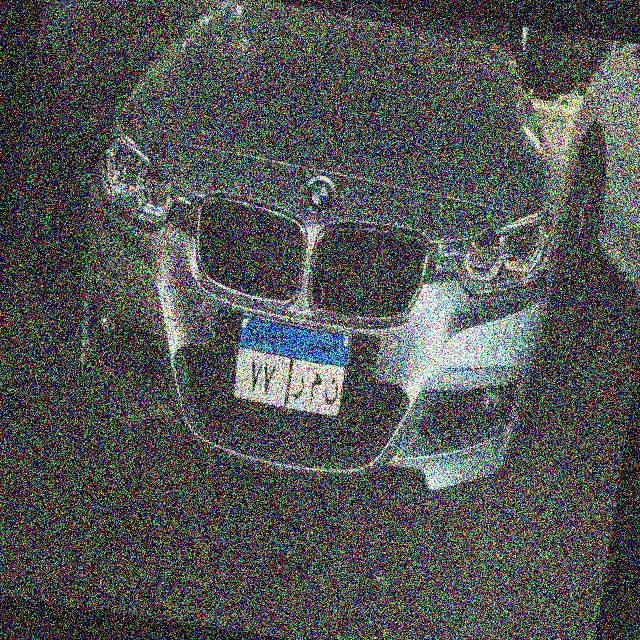License Plate: (226, 308, 356, 424)
